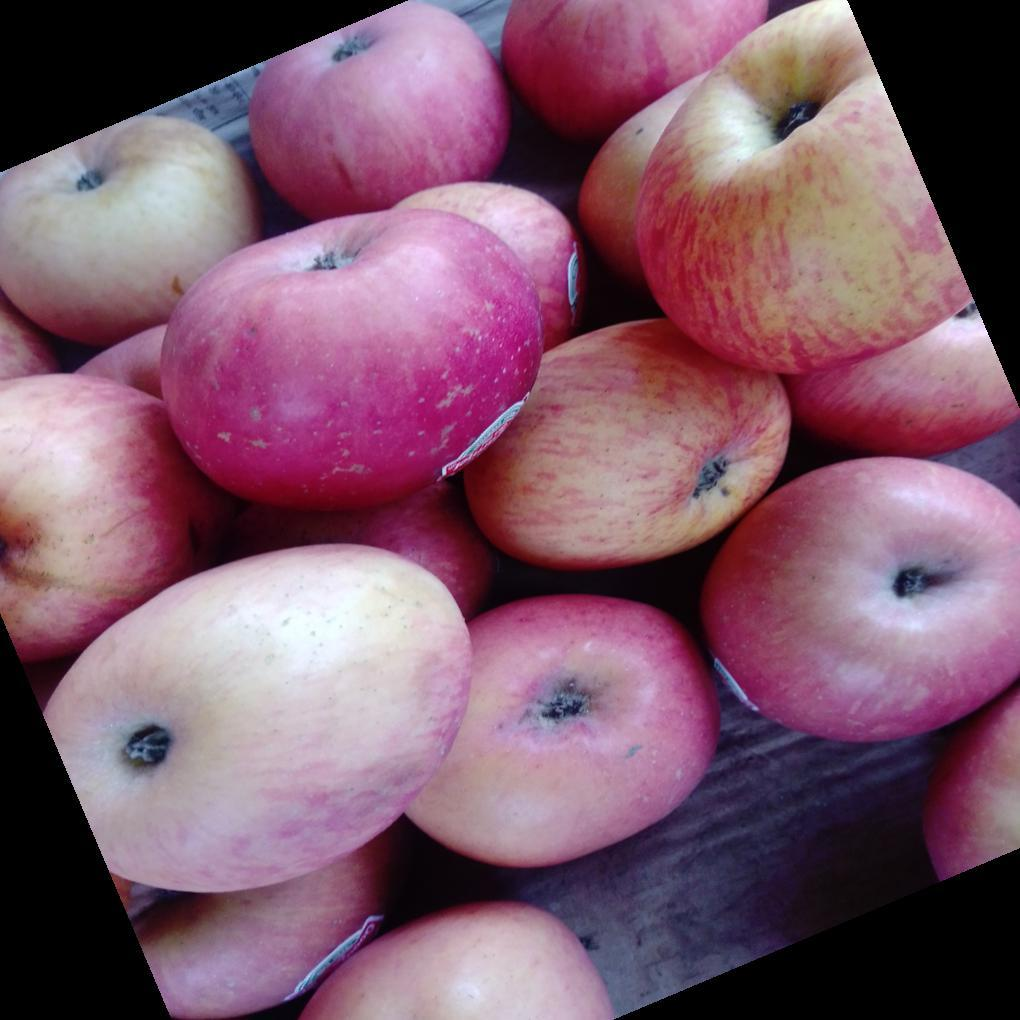FreshGuava: (8, 13, 1015, 1020)
